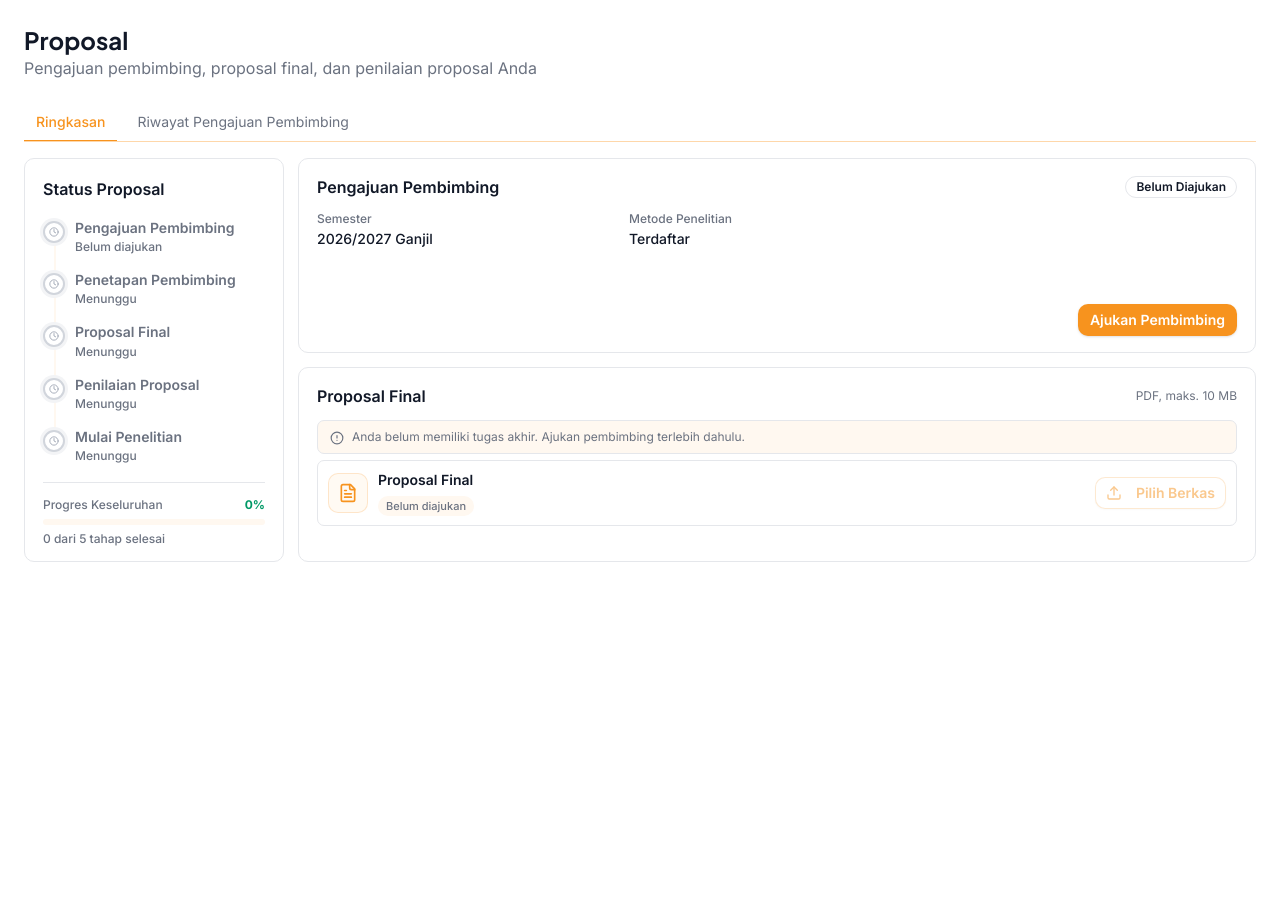
Test: Proposal mahasiswa › without a request but allowed: Ajukan Pembimbing opens the request page
Click the button "Ajukan Pembimbing" at (1157, 320), box [1078,304,1237,336]
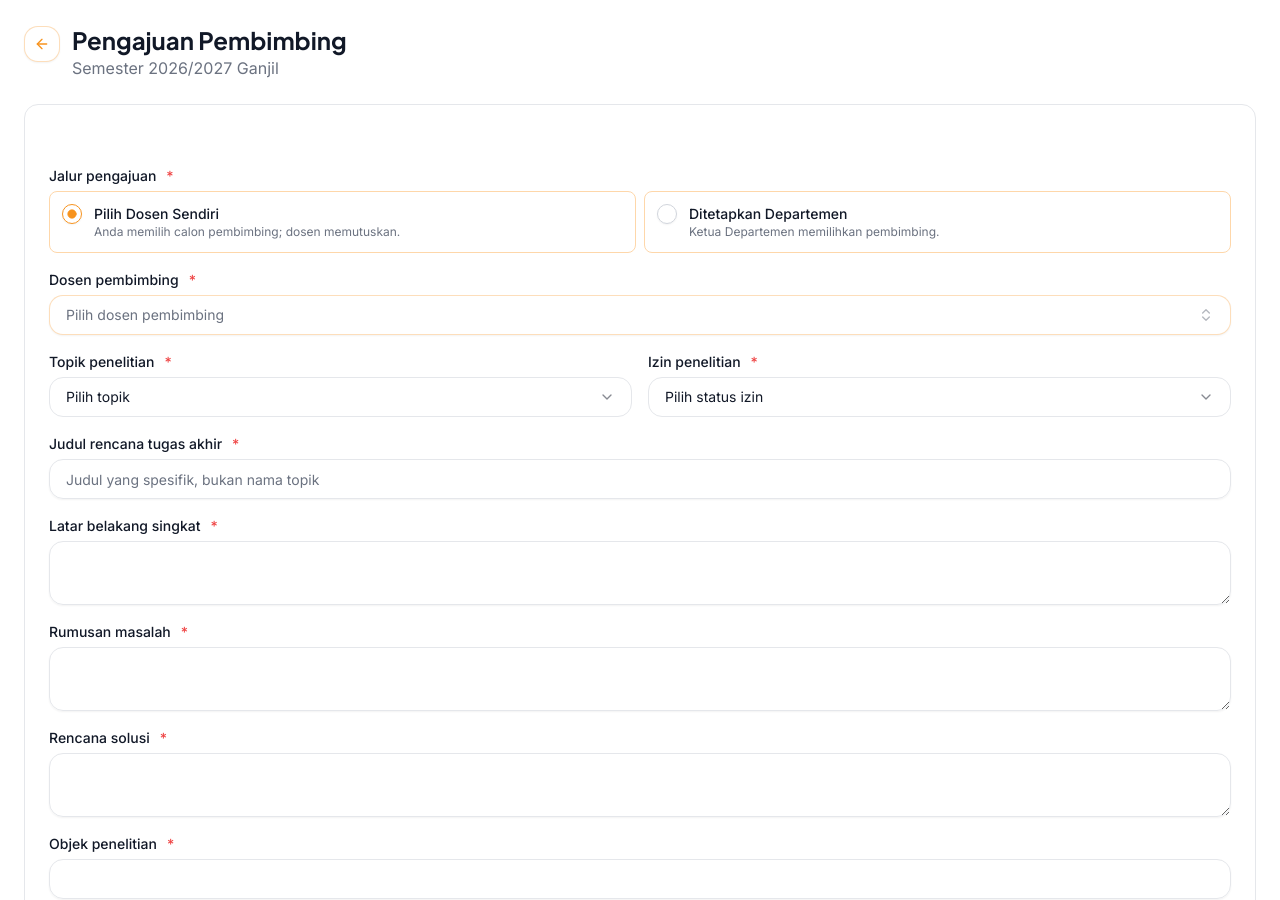
Check: the heading "Pengajuan Pembimbing" is shown, box [72,24,347,56]
